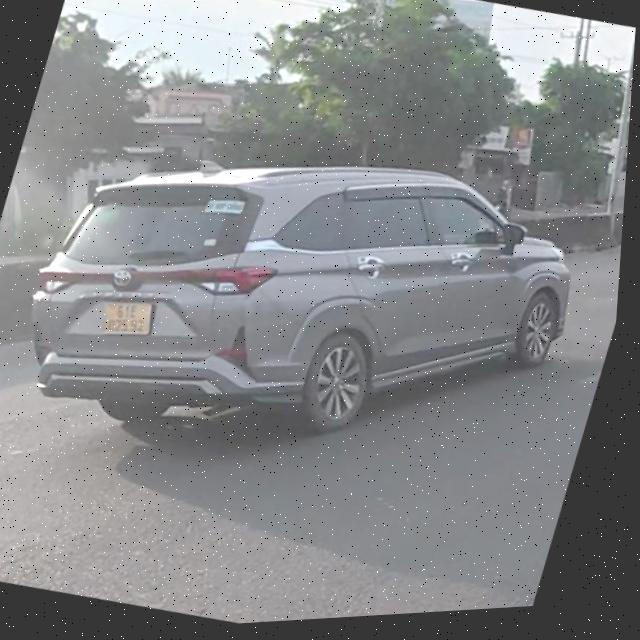car: (0, 80, 610, 532)
plate: (88, 287, 168, 350)
